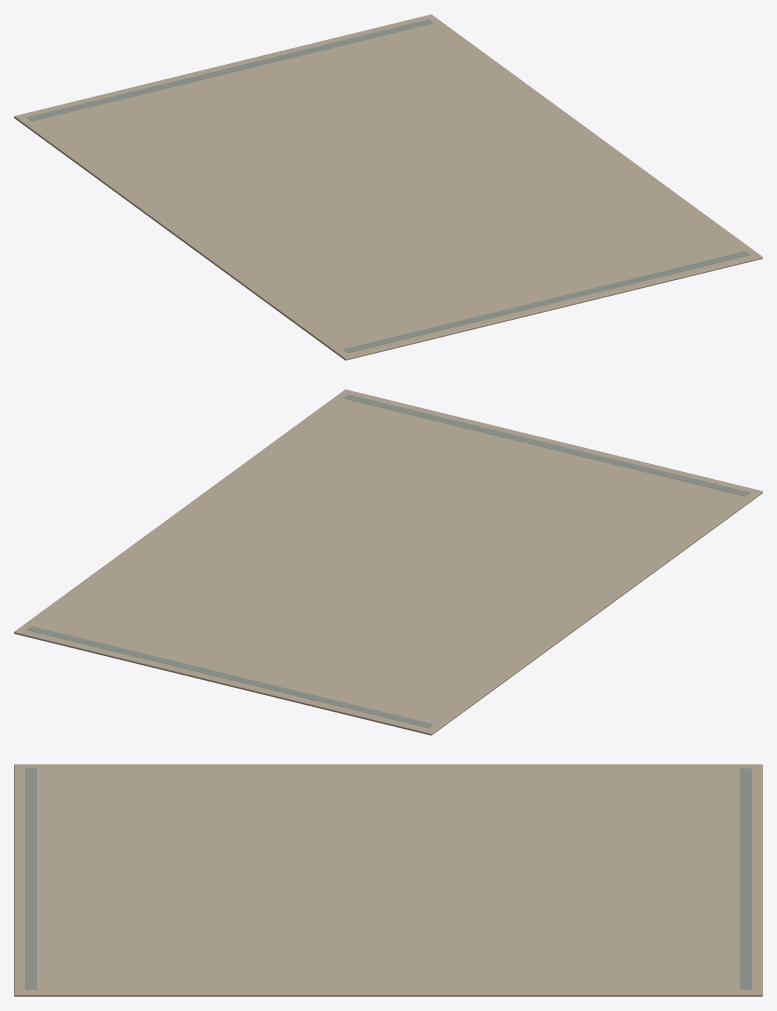
The model's file is rug_simple.glb.
The picture shows the model from 3 angles, top to bottom: view 1: azimuth 30°, elevation 25°; view 2: azimuth 150°, elevation 25°; view 3: azimuth 270°, elevation 25°; orthographic projection. The views are drawn at different scales.
Parts seen in each view (by area): view 1: rug_simple; view 2: rug_simple; view 3: rug_simple.
Part boxes in pixels (x1,y1,x2,y2): rug_simple: [14, 14, 762, 360]; rug_simple: [14, 389, 762, 735]; rug_simple: [14, 764, 762, 996].
Size of the model in its own units: 1.6 by 0.0085 by 2.2.
